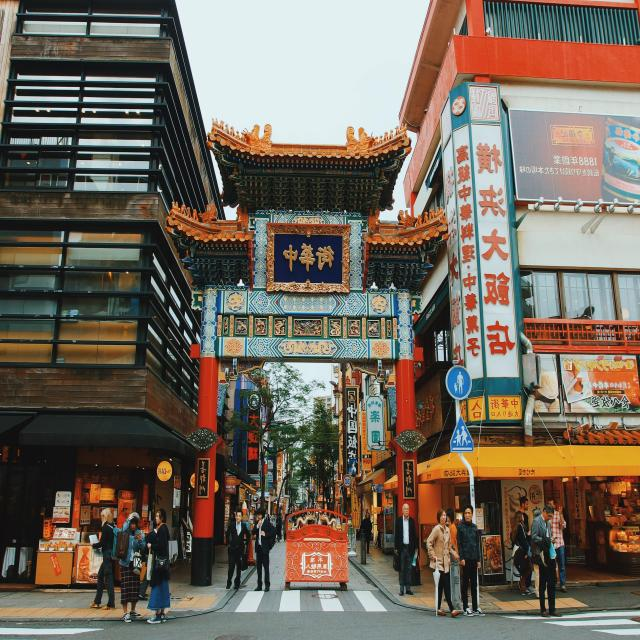adult: (426, 506, 460, 620), (531, 502, 563, 619), (456, 503, 486, 618), (119, 509, 148, 624), (146, 507, 173, 626), (89, 508, 119, 612), (394, 501, 422, 597), (224, 507, 250, 593), (252, 508, 276, 592), (547, 498, 566, 591), (511, 510, 530, 595), (446, 507, 458, 552), (516, 497, 529, 532), (362, 512, 372, 553)
